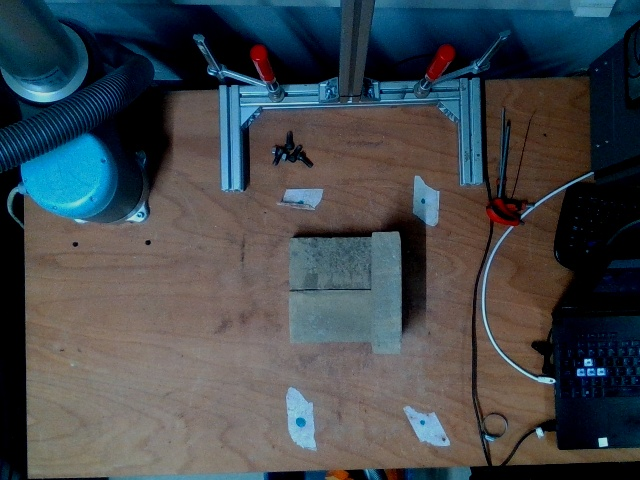brick-side: (372, 233, 402, 354)
